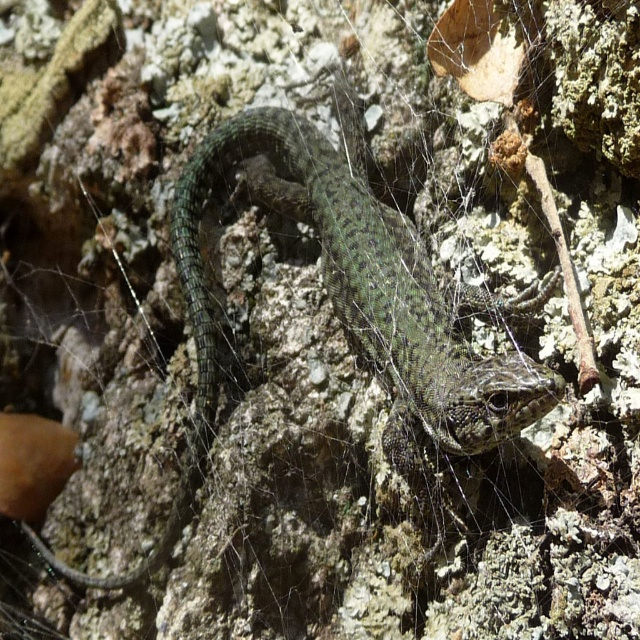Lizard: (97, 57, 595, 541)
